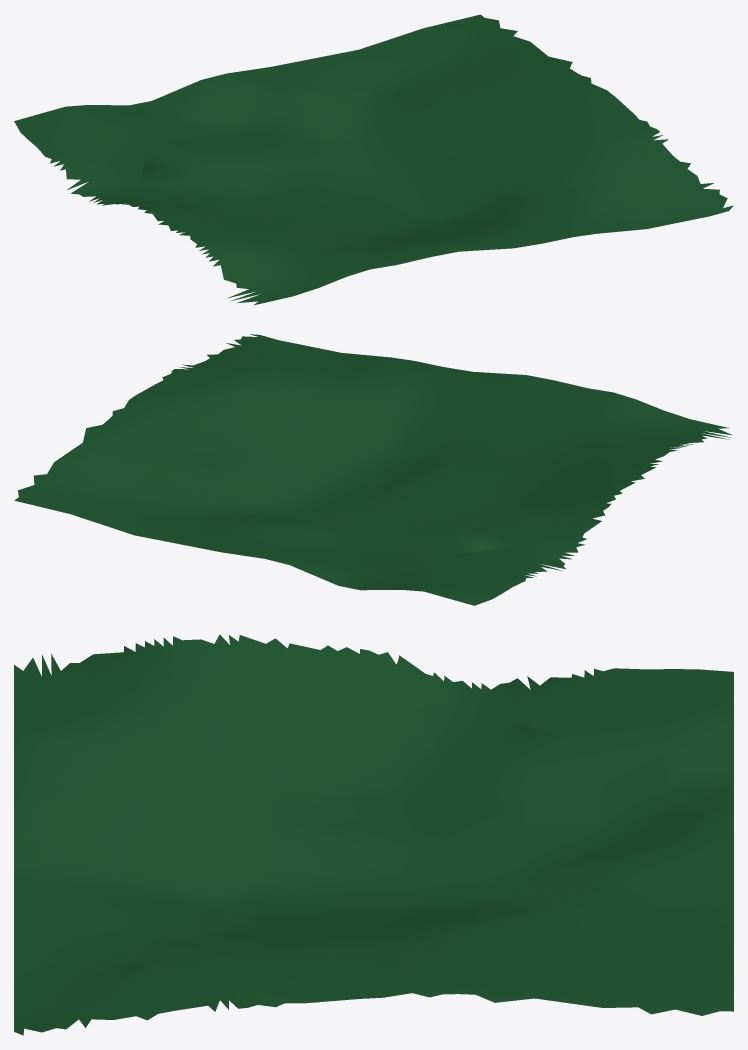
File: payo_land_xm2_ym4_lod2.glb
The picture shows the model from 3 angles, top to bottom: view 1: azimuth 30°, elevation 25°; view 2: azimuth 150°, elevation 25°; view 3: azimuth 270°, elevation 25°; orthographic projection. The views are drawn at different scales.
Parts seen in each view (by area): view 1: payo_land_xm2_ym4; view 2: payo_land_xm2_ym4; view 3: payo_land_xm2_ym4.
Boxes of the visible parts, left/top/right/bottom form: payo_land_xm2_ym4: left=14, top=14, right=733, bottom=305; payo_land_xm2_ym4: left=14, top=334, right=732, bottom=605; payo_land_xm2_ym4: left=14, top=634, right=733, bottom=1035.
Bounding box in the file's own units: 268 × 27.56 × 231.
